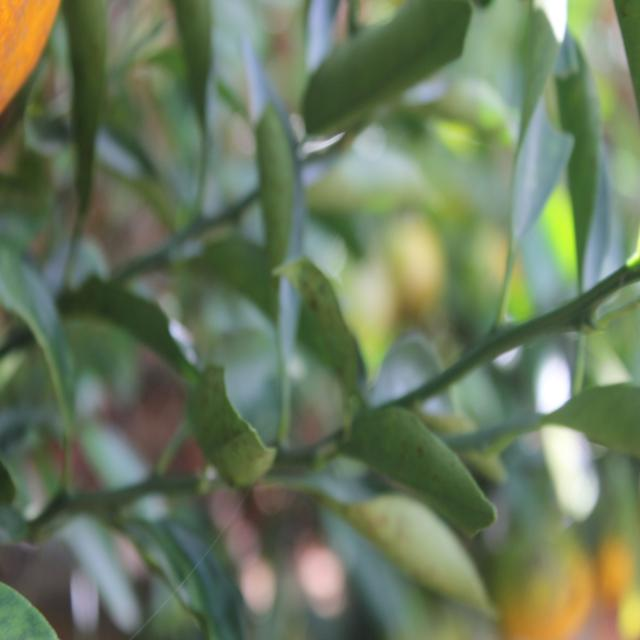melanose: (346, 387, 488, 554), (272, 240, 380, 392), (186, 366, 275, 495)
